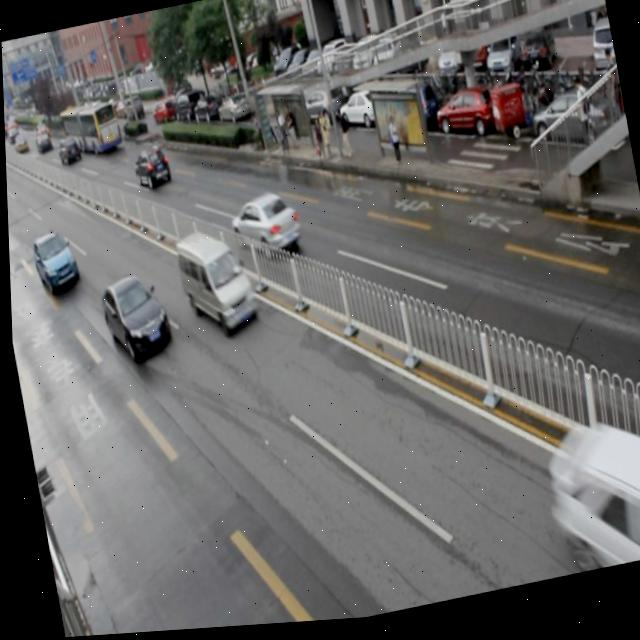car: (540, 416, 640, 583), (95, 270, 171, 366), (225, 192, 303, 266), (28, 228, 79, 296), (130, 146, 171, 193)
truck: (170, 225, 258, 343)
